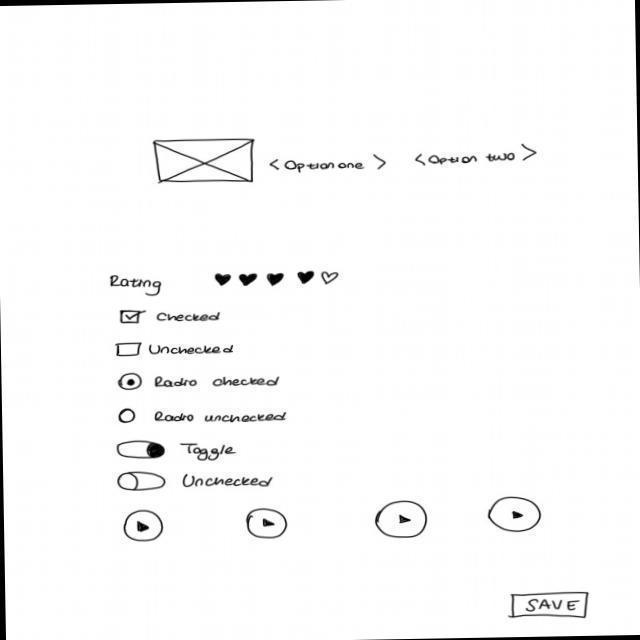button: (509, 591, 590, 620)
checkbox: (115, 340, 239, 361), (119, 307, 226, 327)
image: (153, 138, 257, 185)
label: (180, 472, 277, 491), (107, 273, 164, 297), (182, 442, 239, 462)
link: (415, 143, 539, 170), (268, 153, 388, 174)
radio: (116, 404, 291, 427), (118, 370, 146, 395)
toggle: (116, 438, 168, 460), (118, 472, 169, 493)
